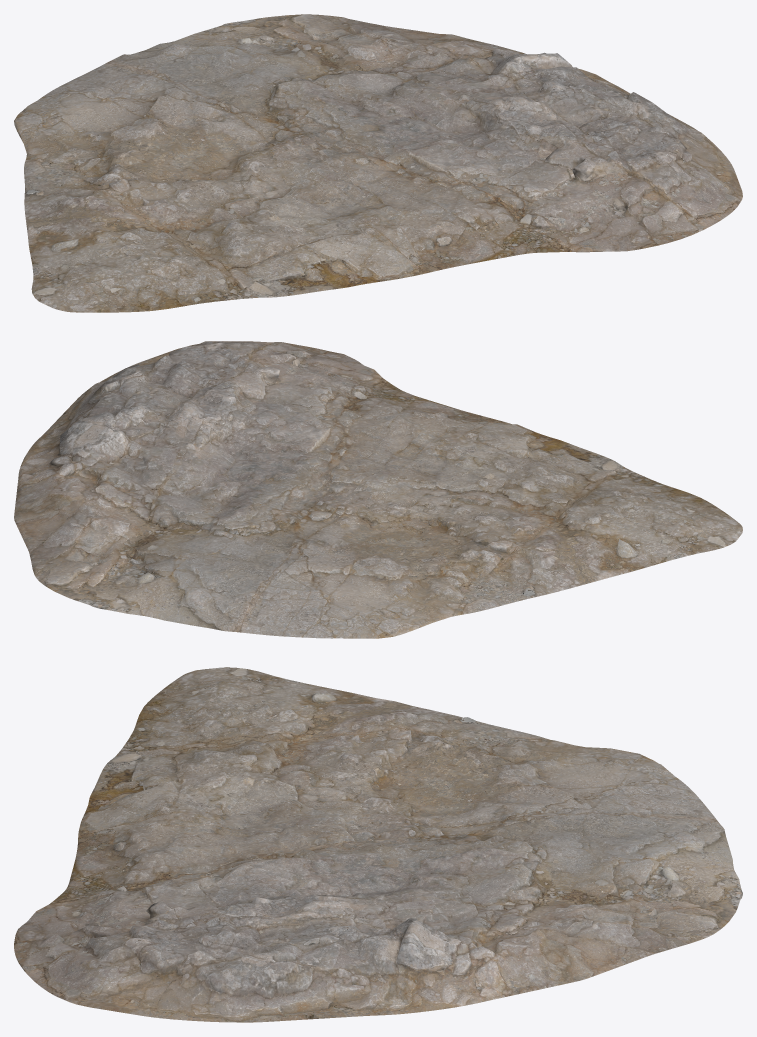
Rendered from SM_wfenffmbw_tier_2.gltf.
The picture shows the model from 3 angles, top to bottom: view 1: azimuth 30°, elevation 25°; view 2: azimuth 150°, elevation 25°; view 3: azimuth 270°, elevation 25°; orthographic projection. The views are drawn at different scales.
Visible parts, largest first — view 1: SM_wfenffmbw; view 2: SM_wfenffmbw; view 3: SM_wfenffmbw.
Part boxes in pixels (x1,y1,x2,y2): SM_wfenffmbw: [14, 14, 742, 312]; SM_wfenffmbw: [14, 341, 742, 638]; SM_wfenffmbw: [14, 667, 742, 1022].
Size of the model in its own units: 4.8 by 0.2977 by 4.17.
Materials: 1 (1 with a texture image).
